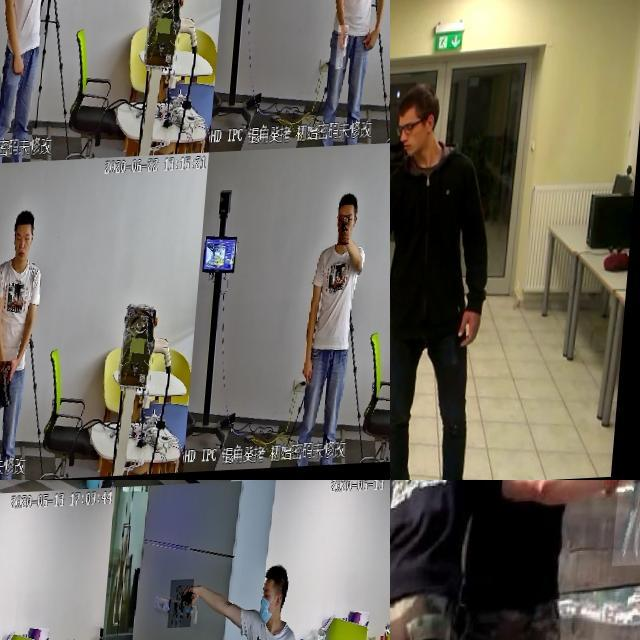-: (619, 480, 640, 571)
gun-knife-thesis - v11 Yolov5 augmented: (390, 227, 412, 286), (175, 584, 201, 632), (3, 362, 21, 409), (194, 480, 223, 502), (0, 598, 15, 640), (339, 30, 353, 74), (66, 0, 94, 20), (344, 220, 357, 251), (0, 480, 15, 500)
